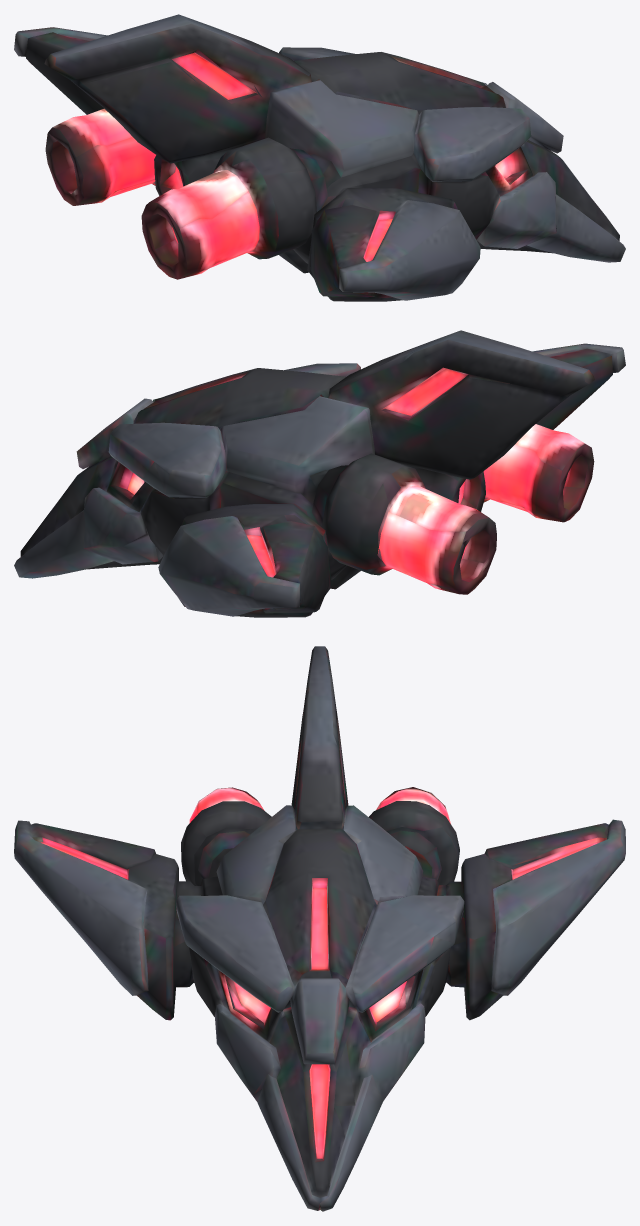
Rendered from enemy-runner.glb.
The picture shows the model from 3 angles, top to bottom: view 1: azimuth 30°, elevation 25°; view 2: azimuth 150°, elevation 25°; view 3: azimuth 270°, elevation 25°; orthographic projection. The views are drawn at different scales.
Visible parts, largest first — view 1: enemy-runner-body; view 2: enemy-runner-body; view 3: enemy-runner-body.
Boxes of the visible parts, box(x1,y1,x2,y2) form: enemy-runner-body: box(14, 14, 625, 301); enemy-runner-body: box(14, 330, 625, 617); enemy-runner-body: box(14, 646, 625, 1211).
Bounding box in the file's own units: 0.9962 × 0.572 × 1.
1 material, 1 textured.
